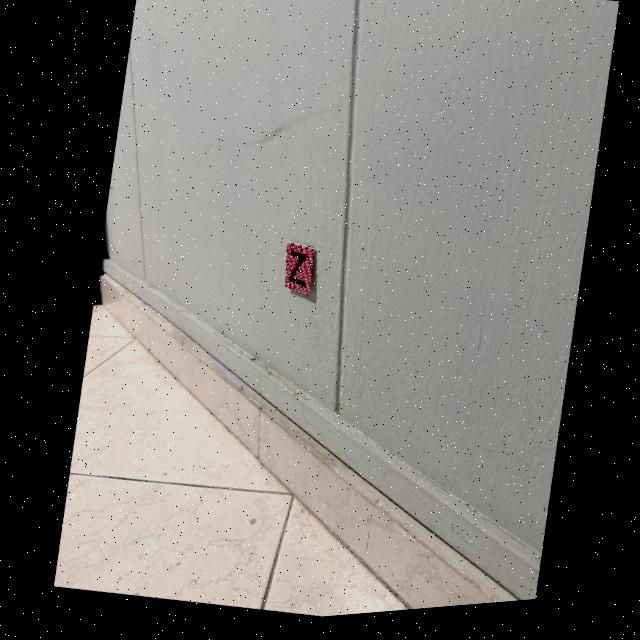Z: (286, 257, 304, 292)
